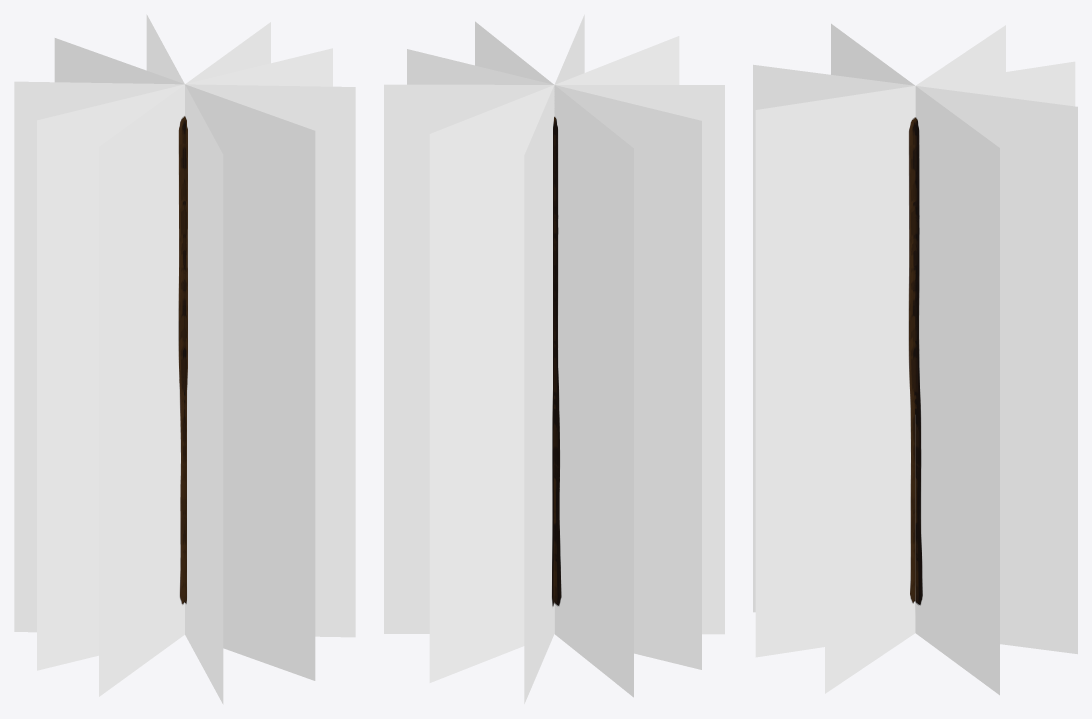
File: TreeThinPlane.glb
3 views of the same model, side by side, from view 1: azimuth 30°, elevation 25°; view 2: azimuth 150°, elevation 25°; view 3: azimuth 270°, elevation 25° (orthographic).
Visible parts, largest first — view 1: TreeThinPlane; view 2: TreeThinPlane; view 3: TreeThinPlane.
Boxes of the visible parts, <box> form: TreeThinPlane: <box>14,14,355,704</box>; TreeThinPlane: <box>384,14,724,703</box>; TreeThinPlane: <box>753,23,1077,695</box>.
Size of the model in its own units: 18 by 32 by 17.21.
1 material, 1 textured.
